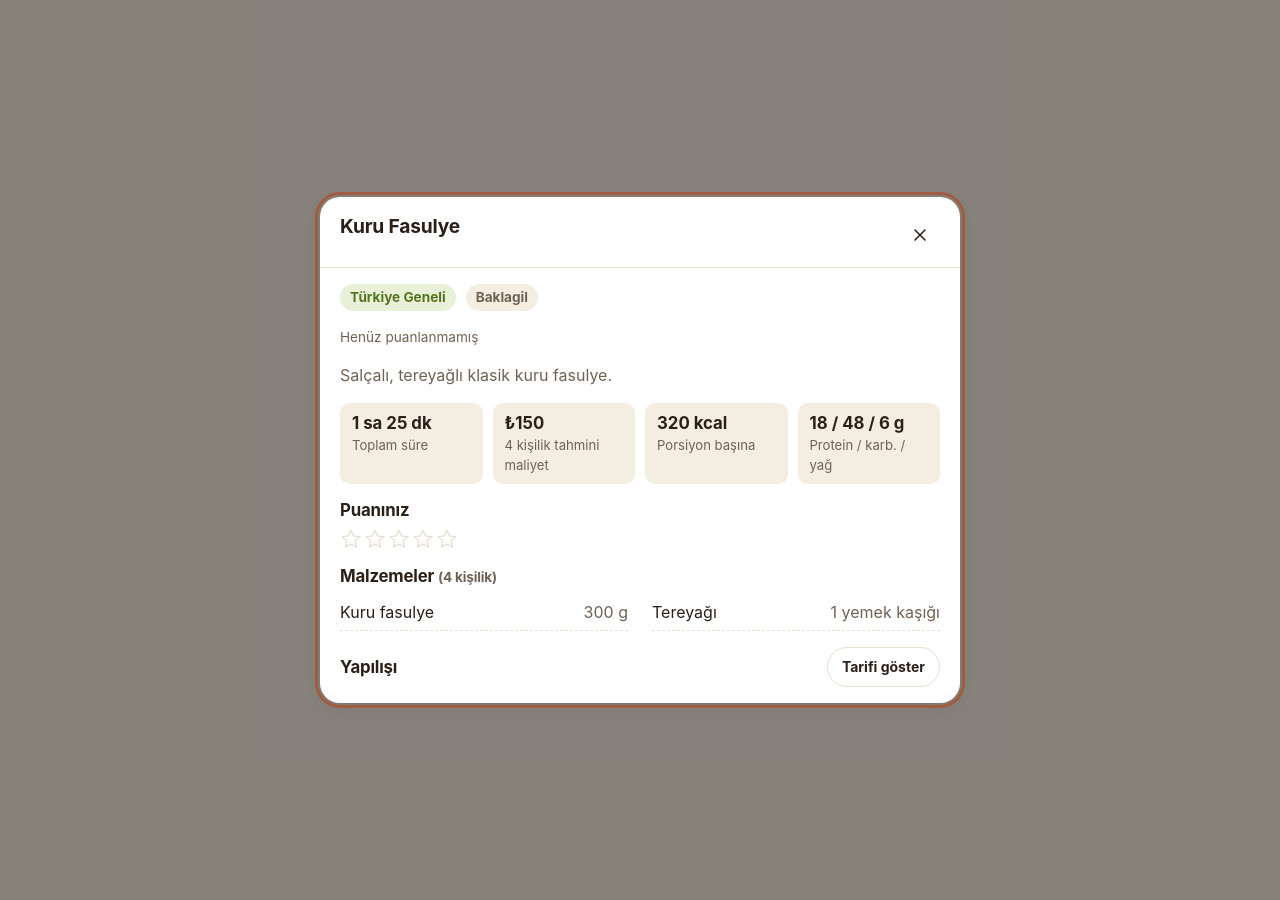
Scenario: DishDetail › puanlama › puanlama hatasını gösterir
What coordinates should you click on to do the following:
click the radio button named "yıldız"
I would click on:
 (351, 539)
Its box is [331,519,371,559].
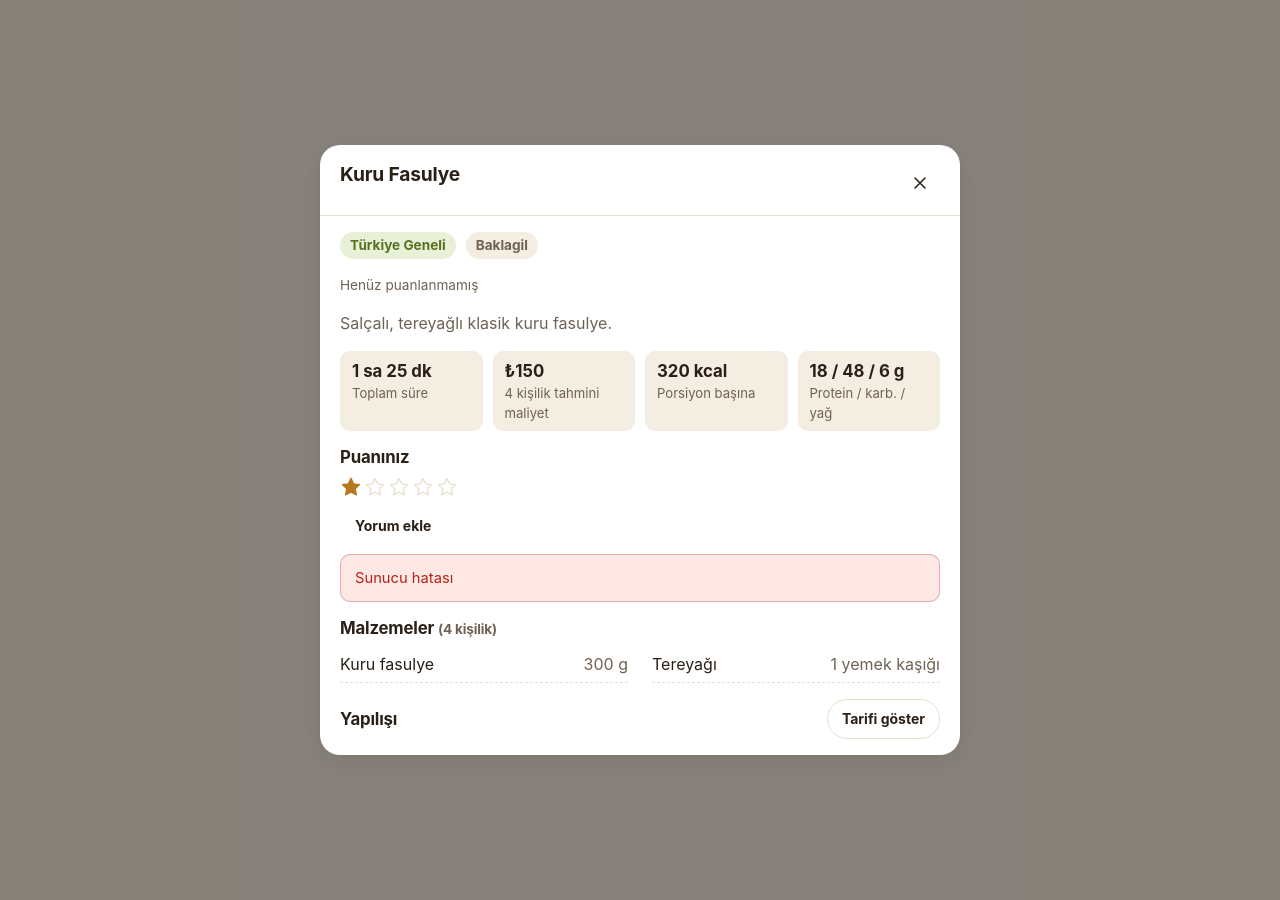
Check: the message reads "Sunucu hatası", box [355,569,453,587]
